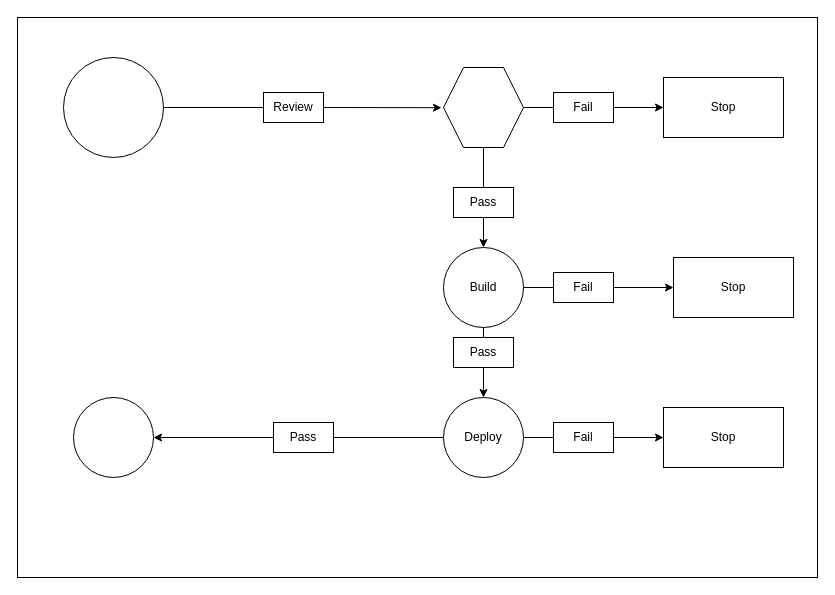
Some shapes in this 835 by 595 pixel diagram are drawn without their labels. The shapes that lost their labels are listed below. From the top down, each one's centre as x and y in pixels, then its label:
At [113,107]: "Pull Request/Push Master".
At [483,107]: "Test".
At [113,437]: "Online".
